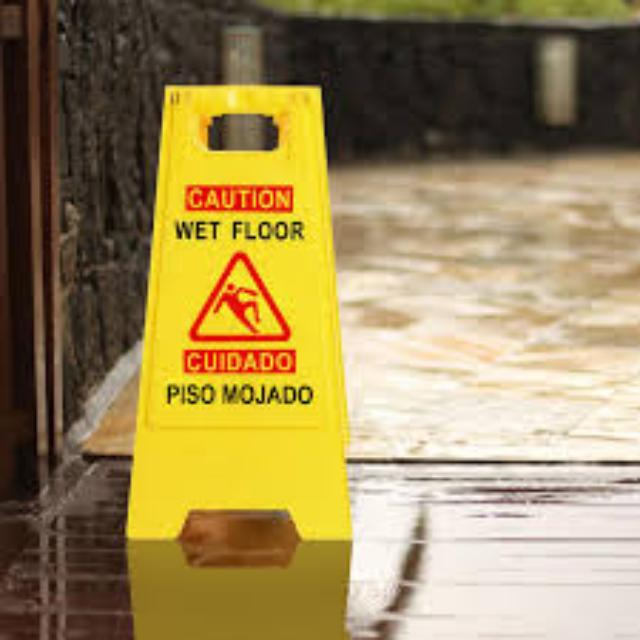tron truot: (125, 85, 344, 538)
